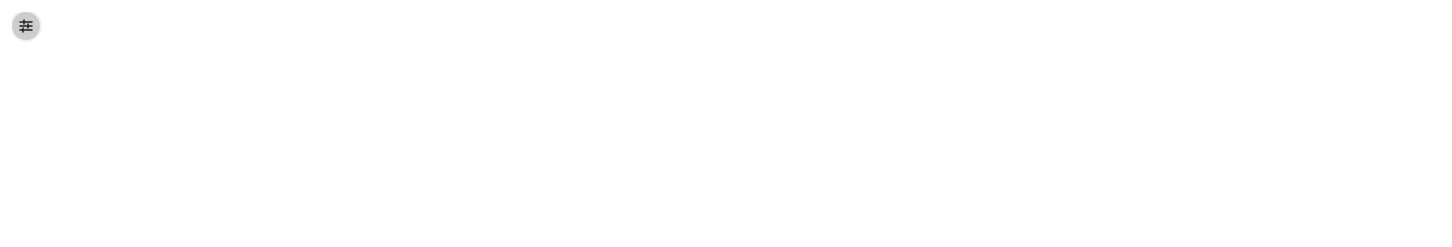
Test: ViewControlsMenu › closes on outside click
Click the button named "View controls" at (26, 26), box [12,12,40,40]
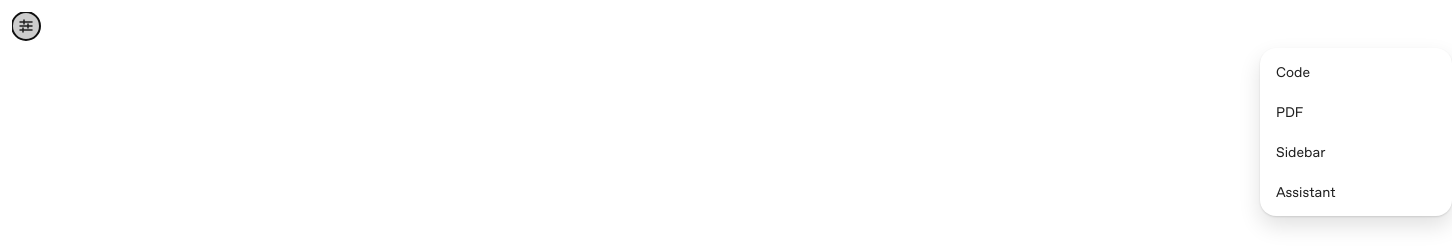
Check: the element with test id "view-controls-menu" is shown, box [1260,48,1451,216]
Click the element showing "Code PDF Sidebar Assistant" at (732, 26), box [12,12,1451,40]
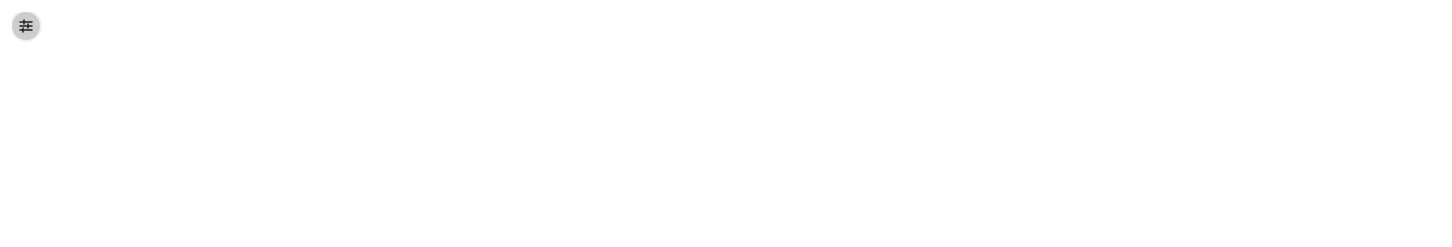
Check: the element with test id "view-controls-menu" is gone
